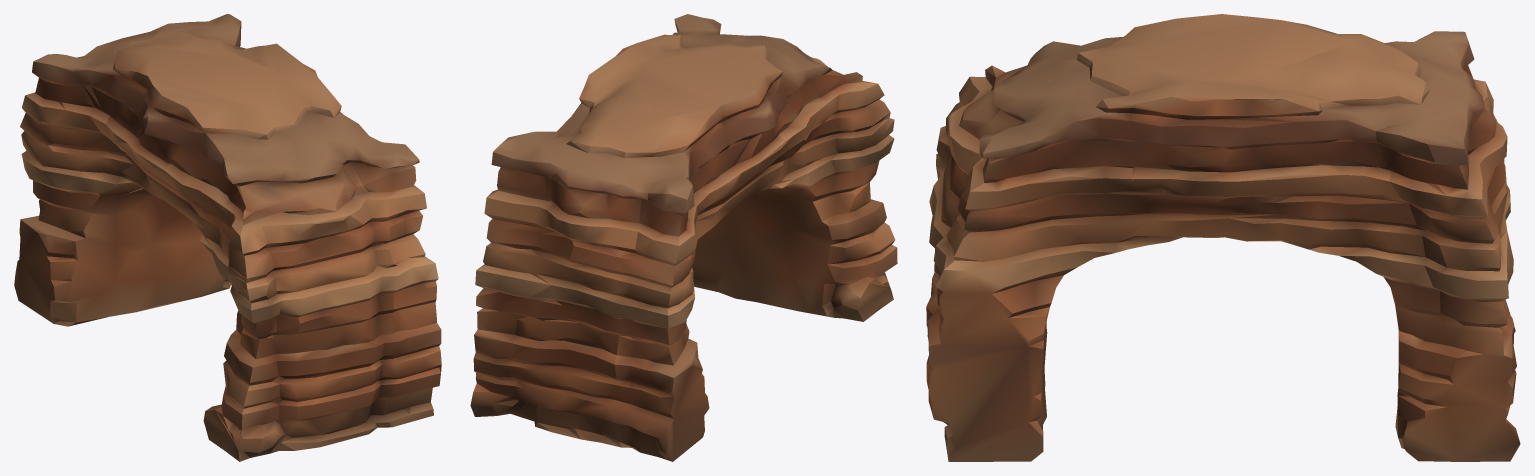
Rendered from rock_arch.glb.
3 renders of one model, left to right at view 1: azimuth 30°, elevation 25°; view 2: azimuth 150°, elevation 25°; view 3: azimuth 270°, elevation 25°, orthographic. The views are drawn at different scales.
Visible parts, largest first — view 1: RockArch; view 2: RockArch; view 3: RockArch.
Part boxes in pixels (x1,y1,x2,y2): RockArch: (14, 14, 441, 461); RockArch: (470, 14, 897, 461); RockArch: (926, 14, 1520, 461).
Bounding box in the file's own units: 12.04 × 16.5 × 25.46.
